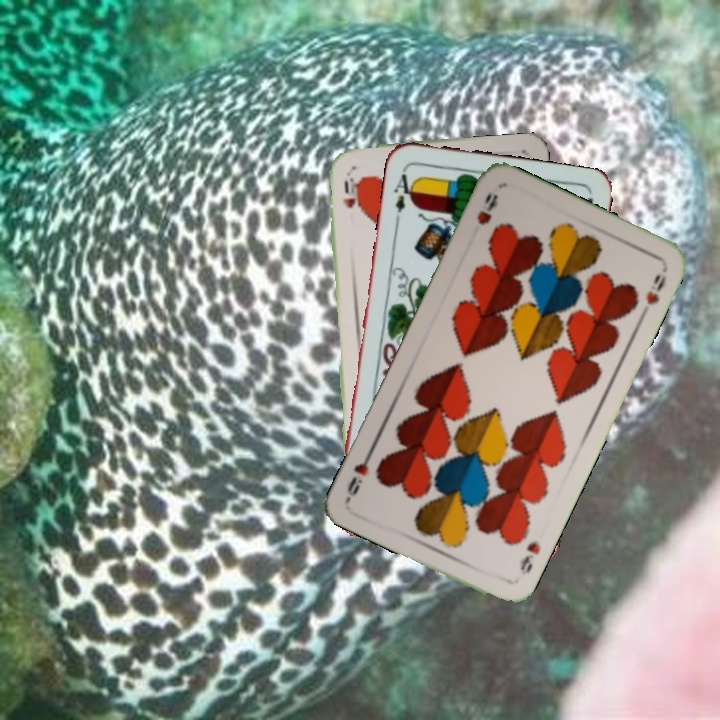EA: (390, 165, 418, 215)
H9: (472, 189, 501, 228), (516, 537, 543, 577)
HO: (338, 169, 358, 211)
